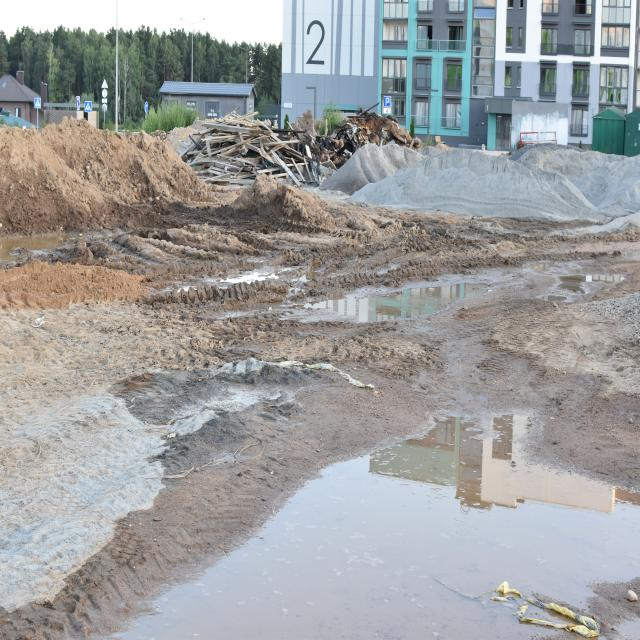entulho: (170, 106, 321, 190), (290, 107, 421, 177)
terra: (0, 114, 205, 235), (428, 144, 635, 225), (209, 158, 348, 239), (318, 135, 431, 202)
